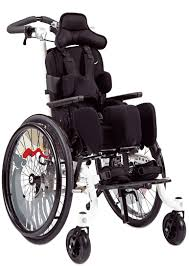wheelchair: (6, 16, 180, 253)
